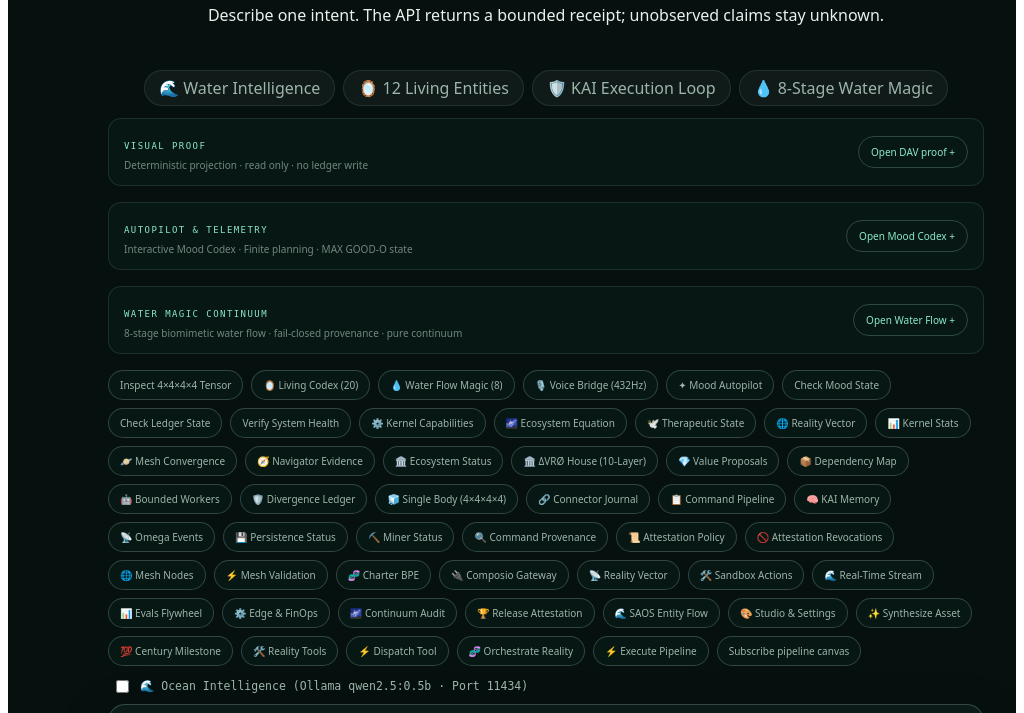
Vibe OS surface › shows observed API health, keeps unprobed services UNKNOWN, and opens DAV proof on demand
(page scrolled)
Click the button "Inspect 4×4×4×4 Tensor" at (176, 385), box [108,370,244,400]
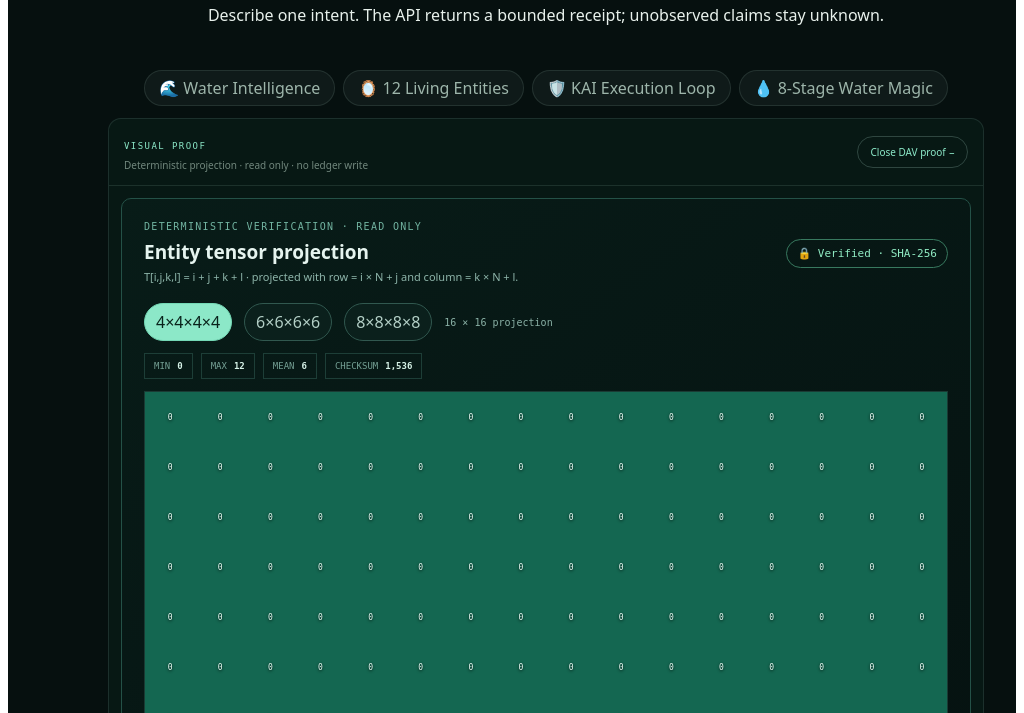
Result: the text named "SHA-256 verified" is shown at [786,238,948,268]
Result: the text "1,536" is shown at [385,361,412,371]
